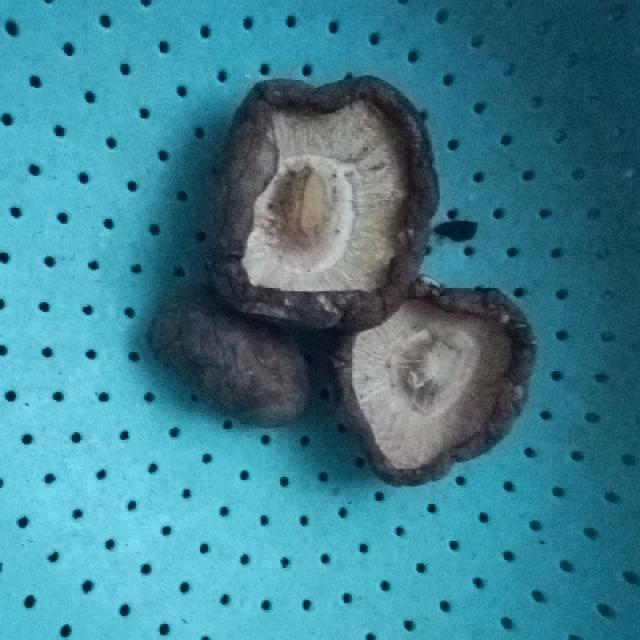Lentinus edodes: (218, 70, 435, 333), (341, 285, 537, 484), (155, 287, 312, 422)
